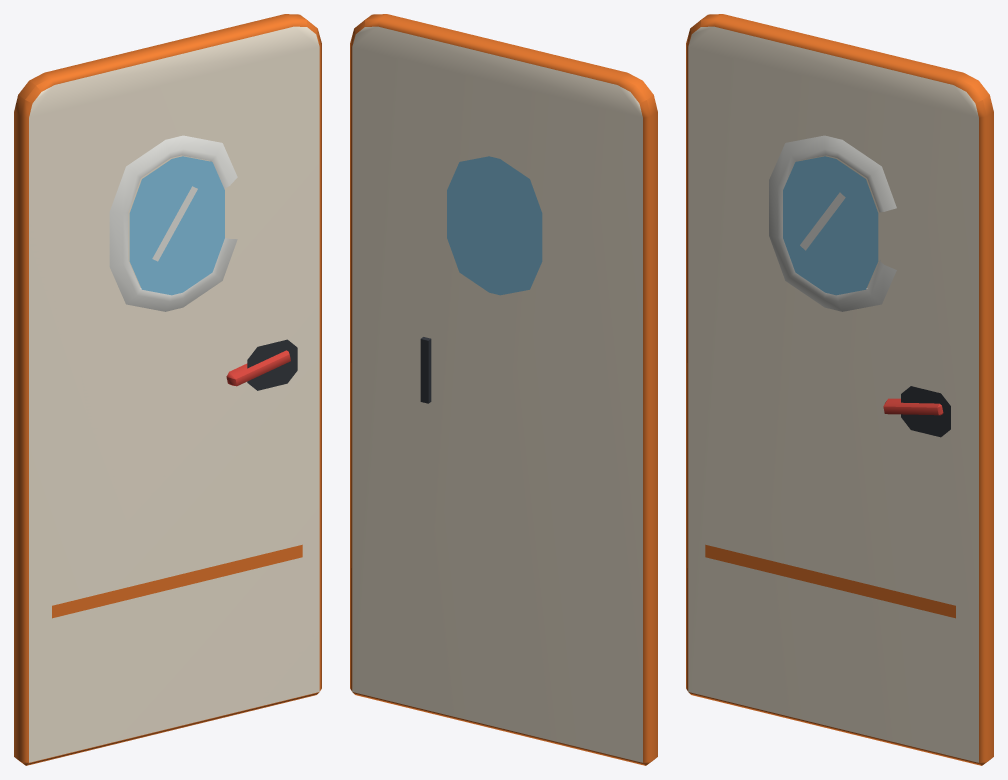
Rendered from PuertaSalida.fbx.
3 renders of one model, left to right at view 1: azimuth 30°, elevation 25°; view 2: azimuth 150°, elevation 25°; view 3: azimuth 330°, elevation 25°, orthographic.
Parts seen in each view (by area): view 1: PuertaSalida; view 2: PuertaSalida; view 3: PuertaSalida.
Boxes of the visible parts, x1,y1,x2,y2 form: PuertaSalida: (14, 14, 321, 765); PuertaSalida: (350, 14, 657, 765); PuertaSalida: (686, 14, 993, 765).
Size of the model in its own units: 3 by 6.5 by 0.3706.
1 material, 1 textured.
